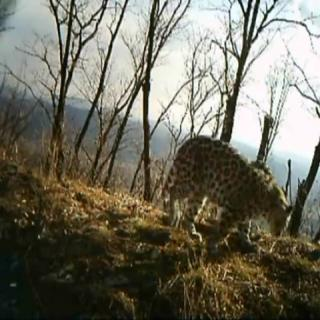Leopard: (158, 124, 293, 256)
